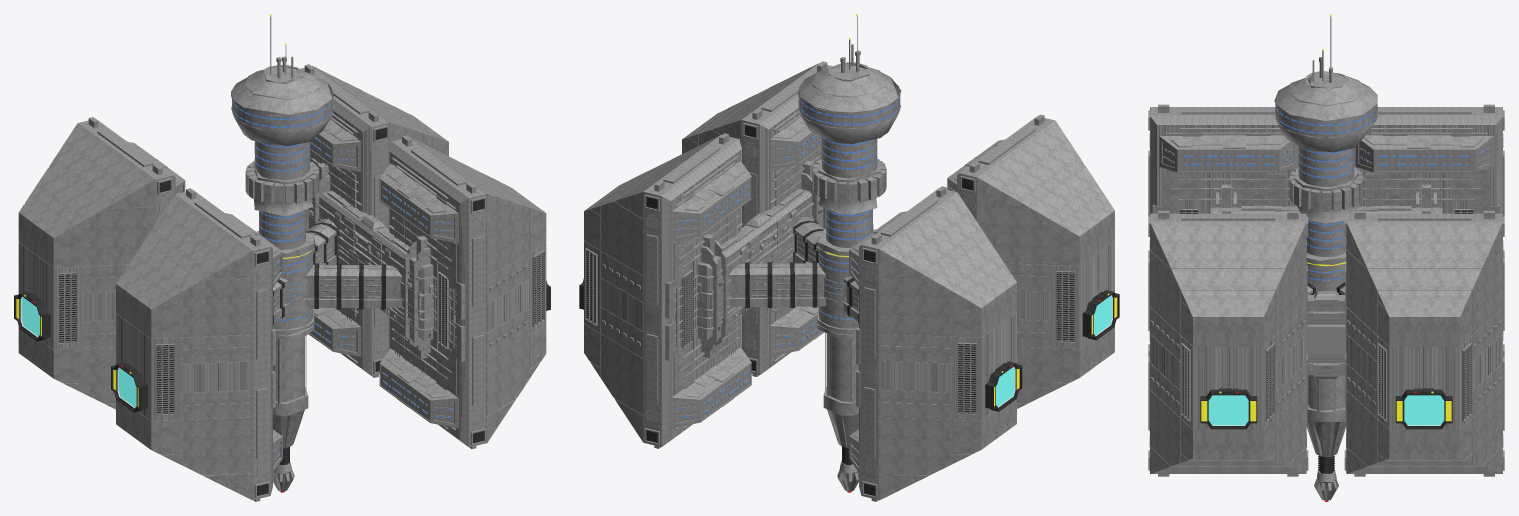
File: base_hypercarburant.glb
The picture shows the model from 3 angles, left to right: view 1: azimuth 30°, elevation 25°; view 2: azimuth 150°, elevation 25°; view 3: azimuth 270°, elevation 25°; orthographic projection.
Parts seen in each view (by area): view 1: MainGreebles2_0, MainGreebles_1, Bridges_1; view 2: MainGreebles2_0, MainGreebles_1, Bridges_1; view 3: MainGreebles2_0, MainGreebles_1, Bridges_1.
Boxes of the visible parts, bbox=[...] form: MainGreebles2_0: bbox=[18, 16, 546, 501]; MainGreebles_1: bbox=[16, 14, 543, 492]; Bridges_1: bbox=[14, 127, 550, 495]; MainGreebles2_0: bbox=[584, 16, 1114, 501]; MainGreebles_1: bbox=[586, 14, 1117, 492]; Bridges_1: bbox=[579, 125, 1119, 495]; MainGreebles2_0: bbox=[1148, 16, 1504, 500]; MainGreebles_1: bbox=[1163, 14, 1489, 501]; Bridges_1: bbox=[1200, 282, 1452, 473].
Size of the model in its own units: 360 by 399 by 268.
3 materials, 3 textured.
